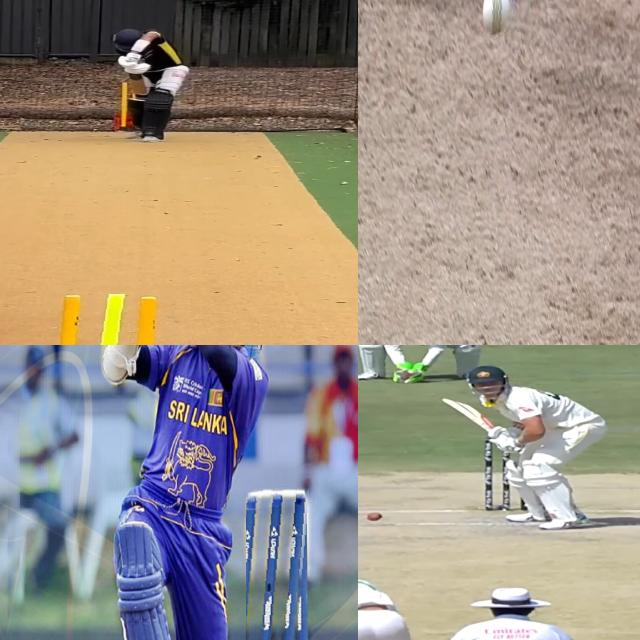Cricket ball: (483, 0, 515, 38), (366, 512, 383, 522)
Stumps: (245, 486, 310, 640), (44, 293, 176, 345)
